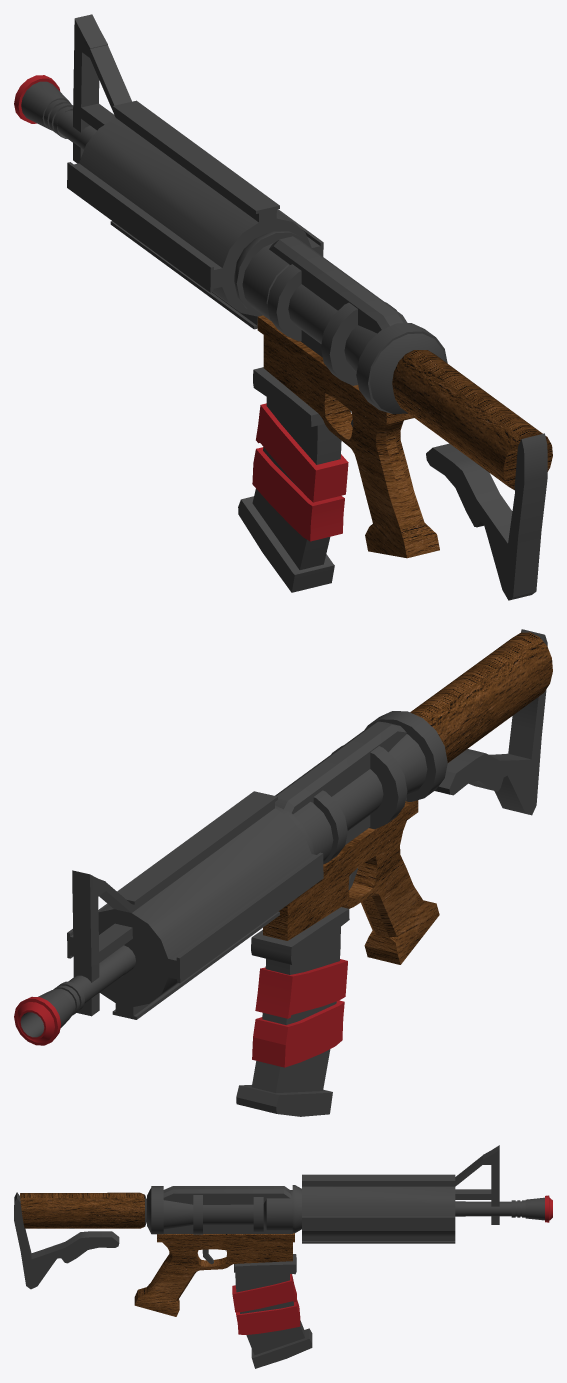
Rendered from ArmaCazador.fbx.
3 renders of one model, top to bottom at view 1: azimuth 30°, elevation 25°; view 2: azimuth 150°, elevation 25°; view 3: azimuth 270°, elevation 25°, orthographic. The views are drawn at different scales.
Parts seen in each view (by area): view 1: Plane; view 2: Plane; view 3: Plane.
Boxes of the visible parts, bbox=[...] form: Plane: bbox=[14, 14, 552, 600]; Plane: bbox=[14, 629, 552, 1116]; Plane: bbox=[14, 1145, 552, 1368].
Bounding box in the file's own units: 8.83 × 30.15 × 68.05.
Materials: 3 (1 with a texture image).
